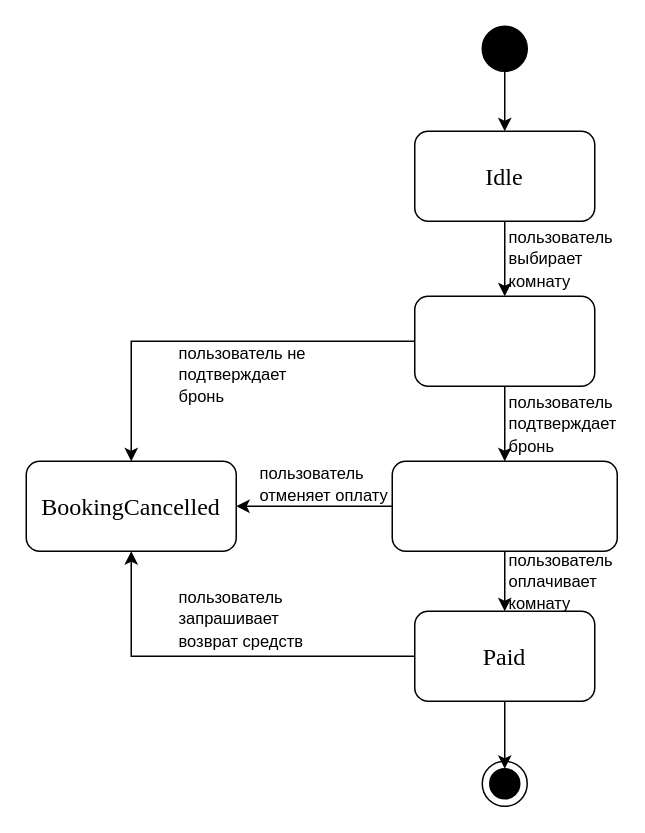
Image size: 645x833. Some labels were removed from this diagram. The box of each missing label's shape, as (x1, y1, x2, y2) in pixels:
BookingConfirmed: (391, 460, 617, 551)
RoomSelected: (413, 295, 595, 386)
